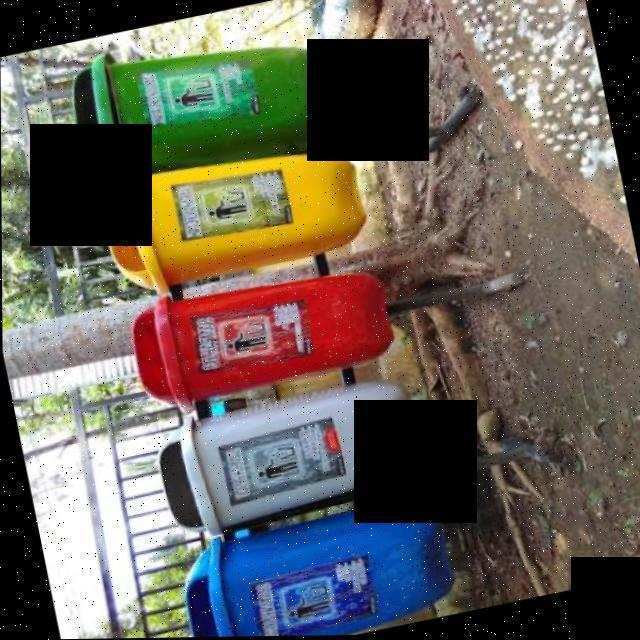bin: (131, 359, 457, 549), (53, 3, 355, 194), (115, 247, 421, 431), (80, 130, 390, 309), (146, 483, 481, 638)
